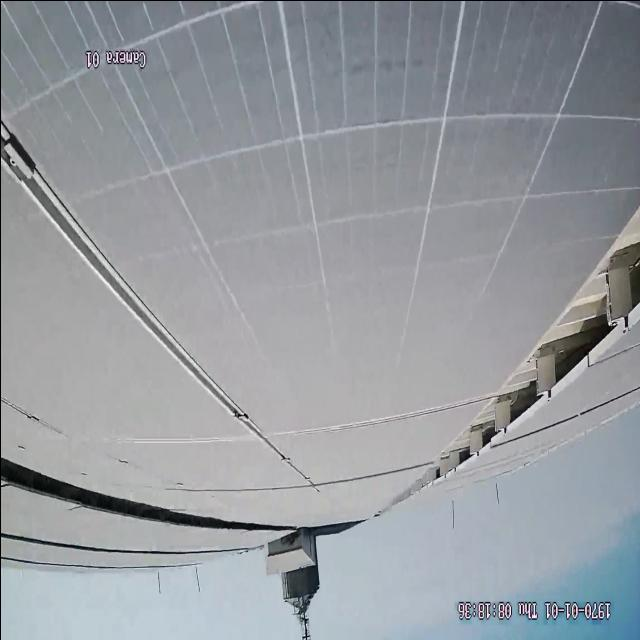interior panel: (3, 132, 312, 483)
outher panel: (395, 198, 637, 499), (0, 452, 259, 531)
